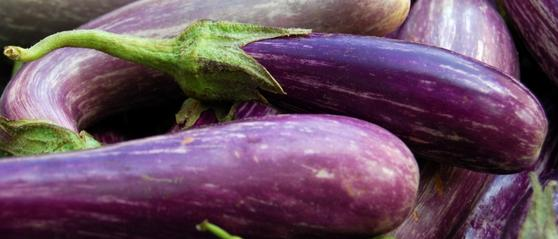eggplant: (178, 31, 554, 177), (11, 119, 427, 239)
